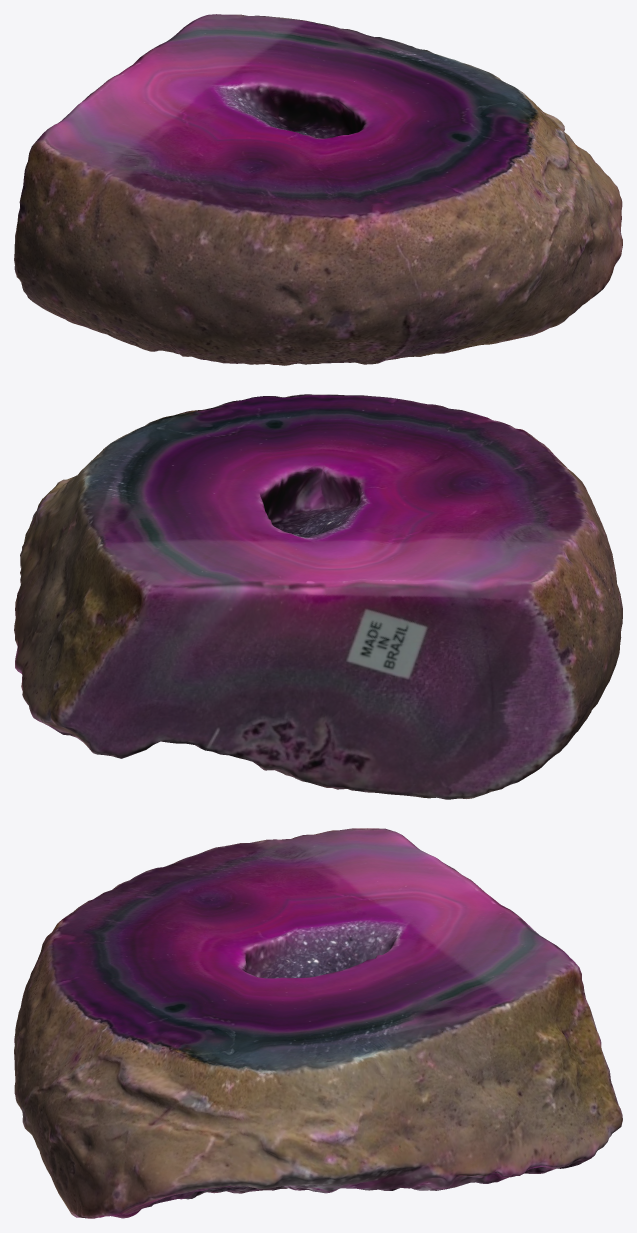
3 renders of one model, top to bottom at view 1: azimuth 30°, elevation 25°; view 2: azimuth 150°, elevation 25°; view 3: azimuth 270°, elevation 25°, orthographic. The views are drawn at different scales.
Parts seen in each view (by area): view 1: RM-0050; view 2: RM-0050; view 3: RM-0050.
Boxes of the visible parts, bbox=[...] form: RM-0050: bbox=[14, 14, 622, 365]; RM-0050: bbox=[14, 394, 622, 799]; RM-0050: bbox=[14, 828, 622, 1218].
Bounding box in the file's own units: 0.0977 × 0.0376 × 0.0919.
1 material, 1 textured.
